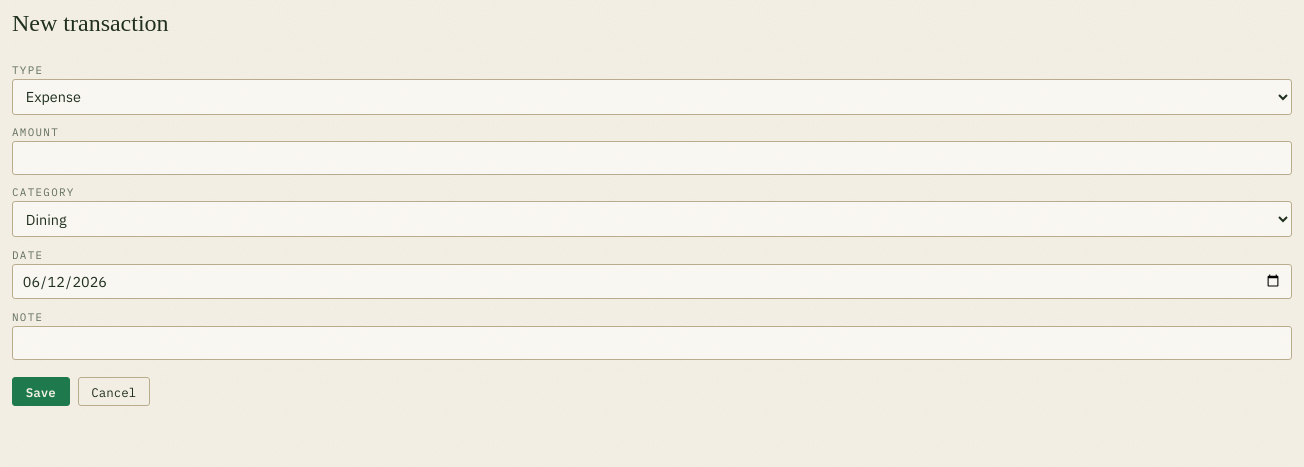
TransactionForm › rejects an invalid amount with an error and no save
Type "abc" into the field labelled "Amount". click: (652, 158)
box: [12, 141, 1292, 175]
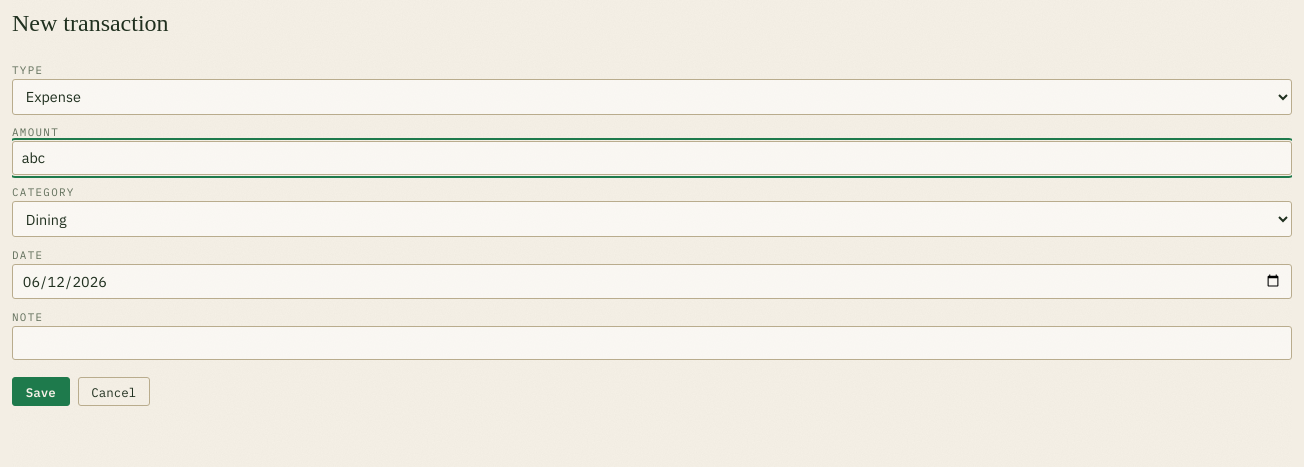
Click the button "Save". click: (41, 392)
box: [12, 377, 70, 406]
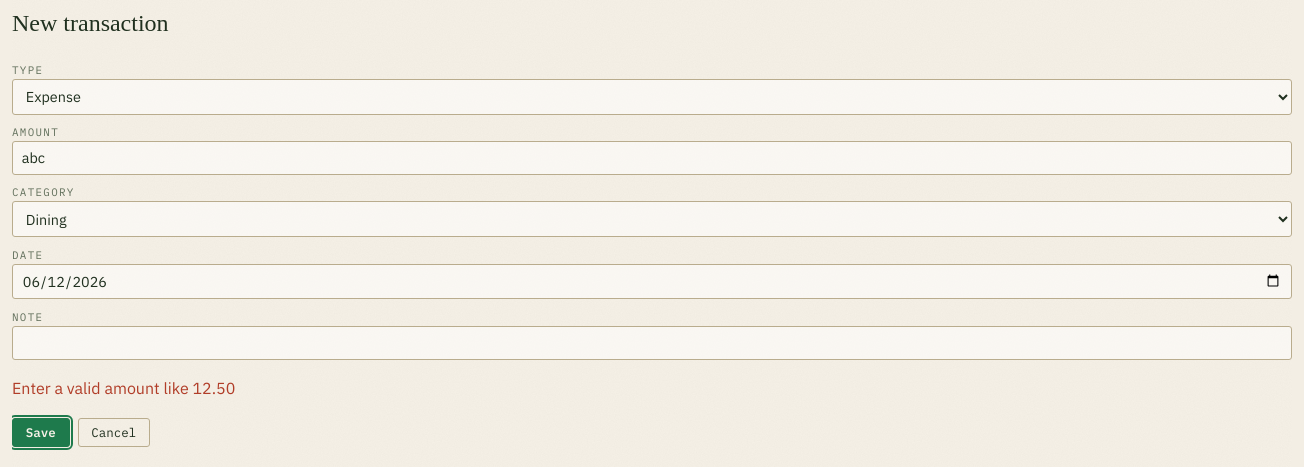
Expected: the message shows "Enter a valid amount", [12, 378, 235, 398]
